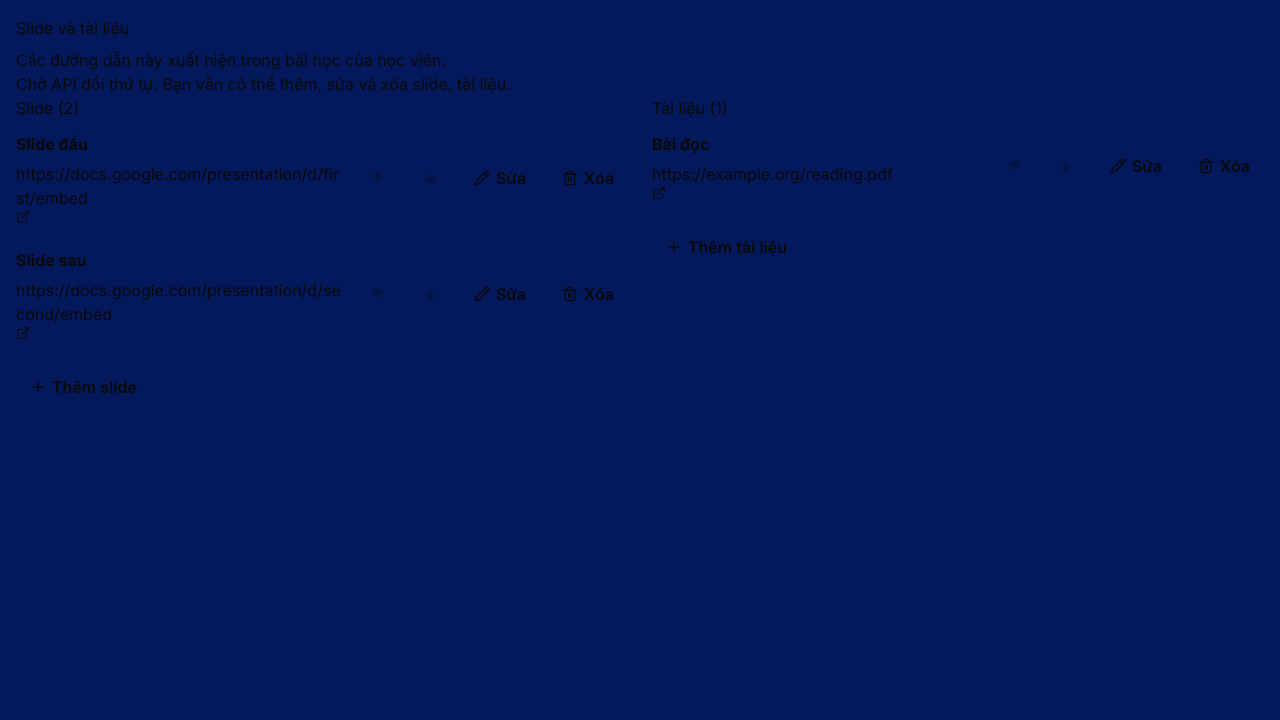
Test: LessonResourcesEditor › appends a slide after the largest existing sort order
Step 1. Click the button "Thêm slide" → click(83, 387), box [16,368,151,406]
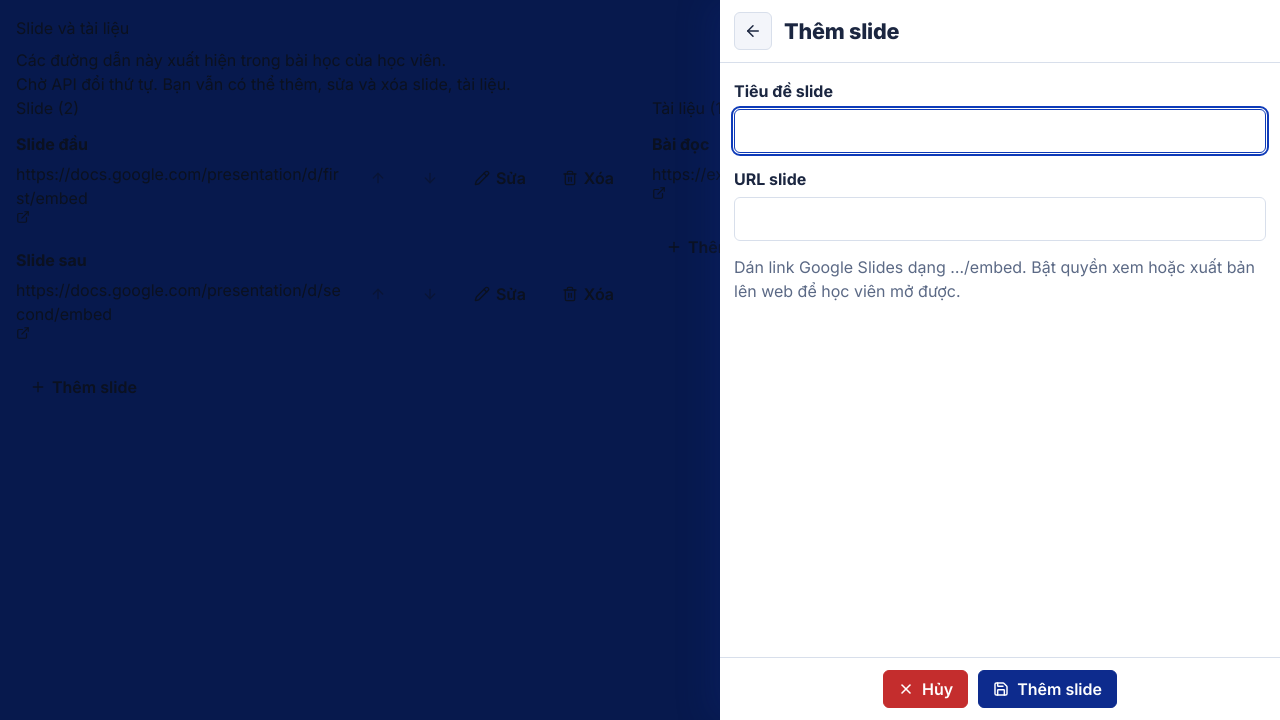
Step 2. Type "Slide mới" into the field labelled "Tiêu đề slide" → (1000, 131), box [734,109,1266,153]
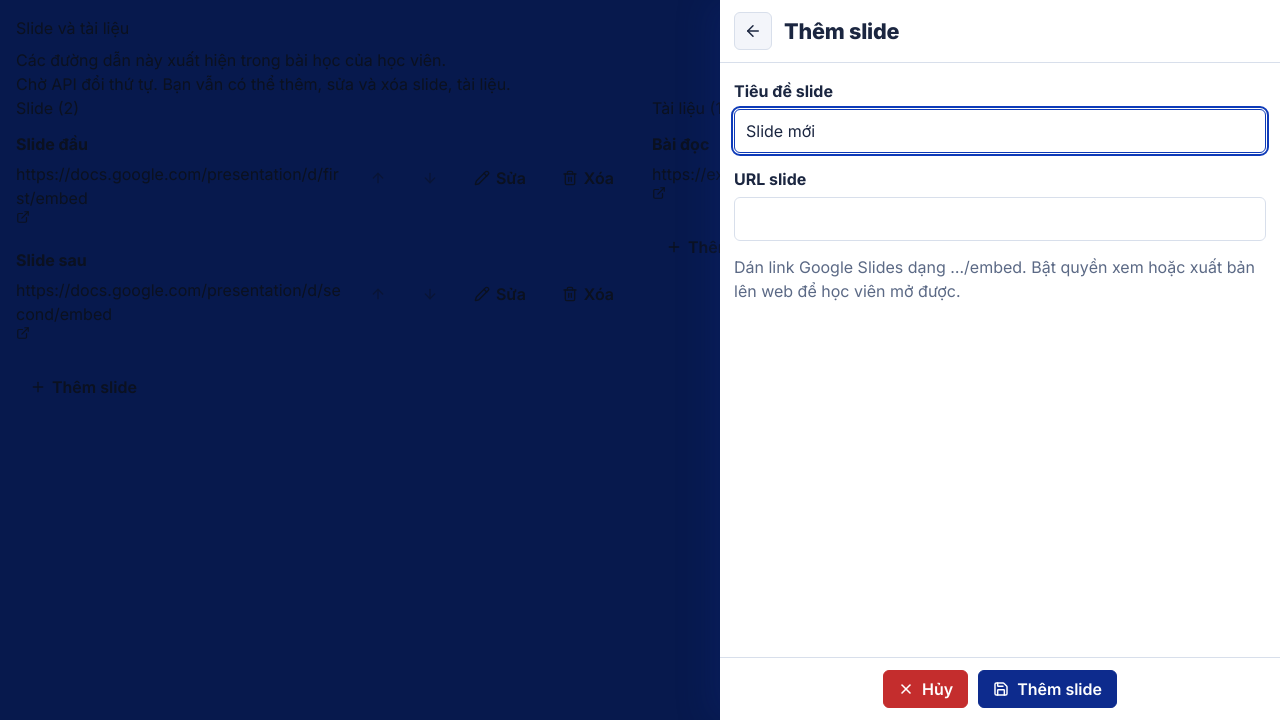
Step 3. Type "https://example.org/slides" into the field labelled "URL slide" → (1000, 219), box [734,197,1266,241]
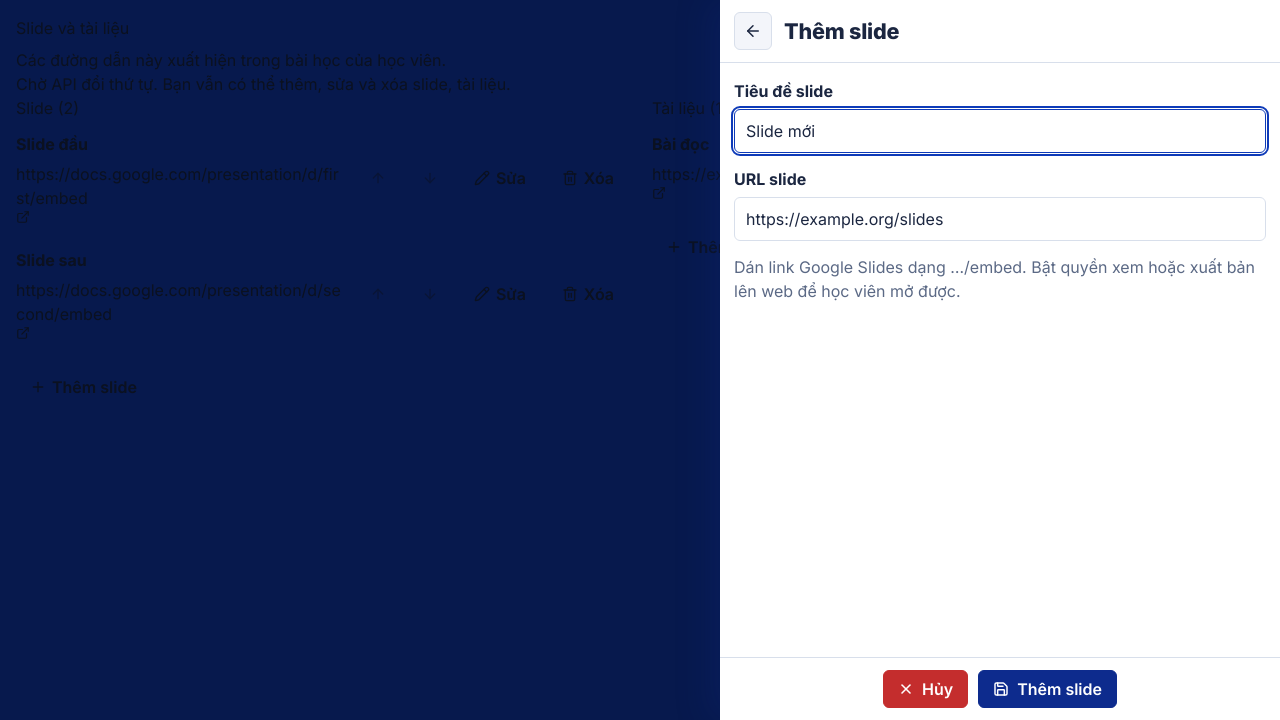
Step 4. Submit the form named "Thêm slide", box [734,79,1266,719]
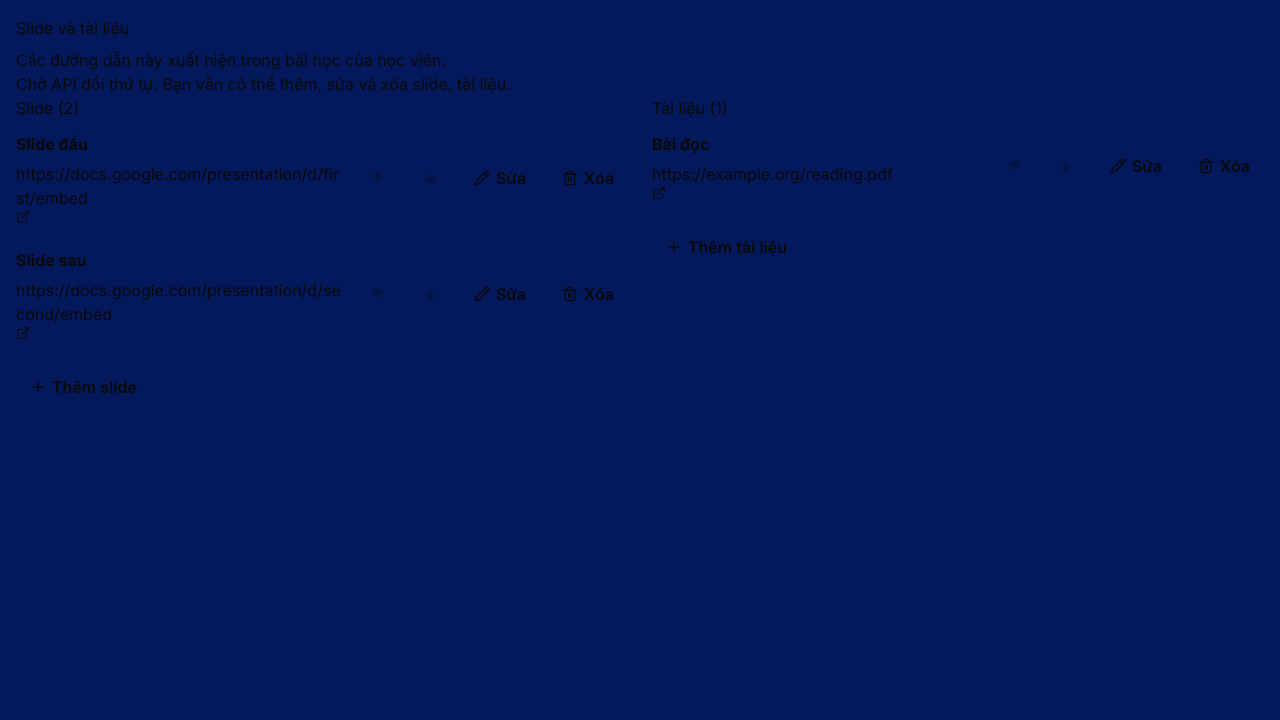
Expected: the dialog is gone
